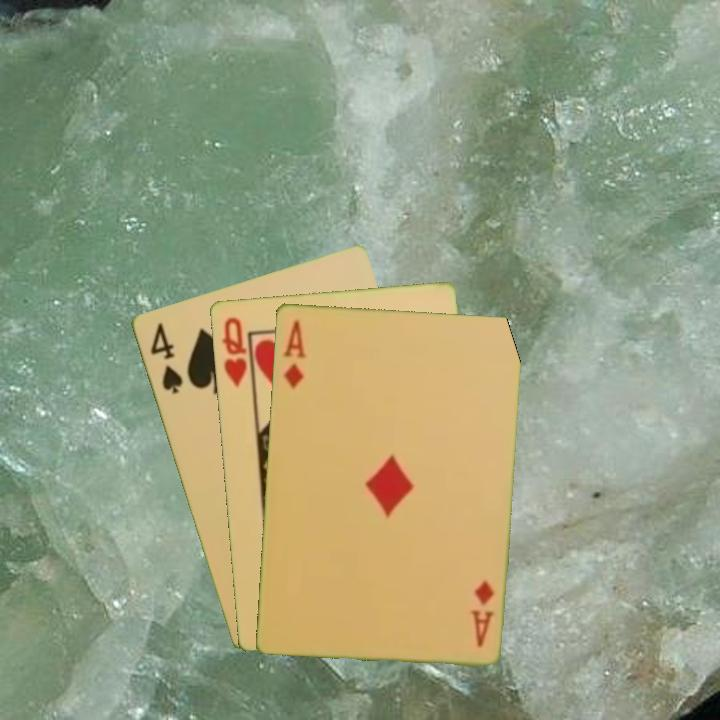4s: (146, 318, 185, 397)
Ad: (279, 316, 309, 391), (467, 576, 496, 650)
Qh: (218, 313, 254, 392)
